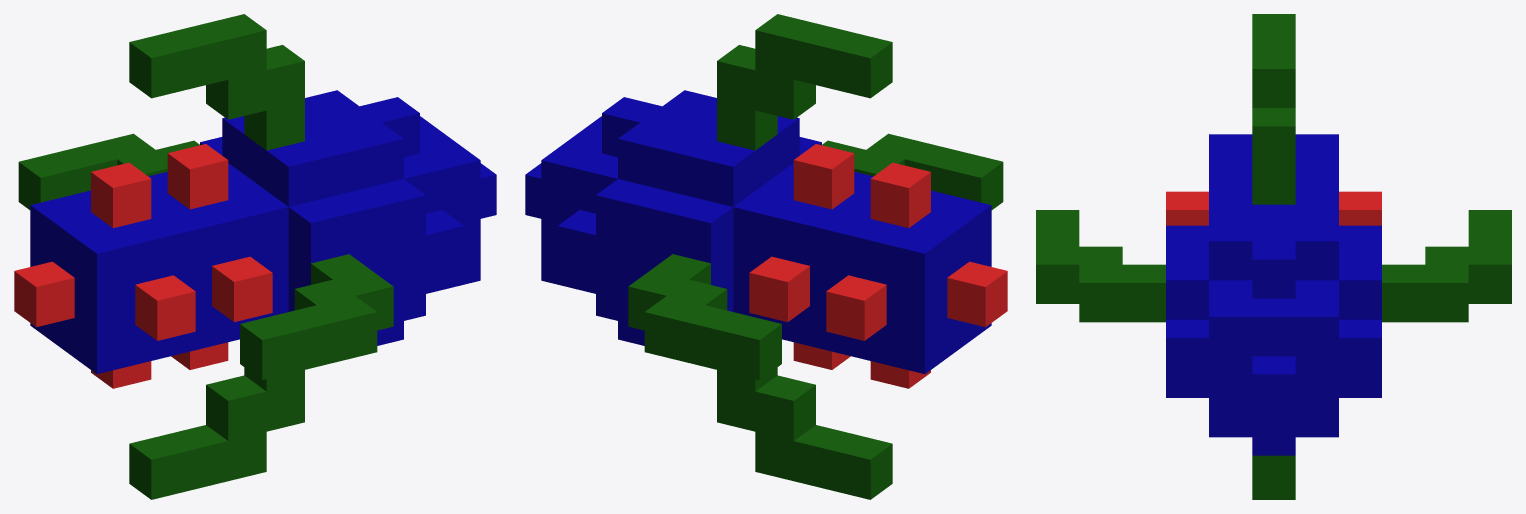
File: enemy.glb
The picture shows the model from 3 angles, left to right: view 1: azimuth 30°, elevation 25°; view 2: azimuth 150°, elevation 25°; view 3: azimuth 270°, elevation 25°; orthographic projection. The views are drawn at different scales.
Visible parts, largest first — view 1: Cube, Cube.005, Cube.002, Cube.001, Cube.004, Cube.003; view 2: Cube, Cube.005, Cube.002, Cube.001, Cube.003, Cube.004; view 3: Cube, Cube.003, Cube.004, Cube.002, Cube.005, Cube.001.
Part boxes in pixels (box(x1,y1,x2,y2)): Cube: box(30, 90, 496, 374); Cube.005: box(14, 144, 272, 388); Cube.002: box(129, 14, 304, 150); Cube.001: box(129, 367, 304, 499); Cube.004: box(240, 254, 393, 380); Cube.003: box(18, 133, 199, 209); Cube: box(525, 90, 991, 374); Cube.005: box(749, 144, 1007, 388); Cube.002: box(717, 14, 892, 150); Cube.001: box(717, 367, 892, 499); Cube.003: box(628, 254, 781, 380); Cube.004: box(822, 133, 1003, 209); Cube: box(1166, 134, 1381, 455); Cube.003: box(1382, 210, 1511, 322); Cube.004: box(1036, 210, 1165, 322); Cube.002: box(1252, 14, 1295, 204); Cube.005: box(1166, 191, 1381, 225); Cube.001: box(1252, 455, 1295, 499).
Bounding box in the file's own units: 24 × 22 × 22.
